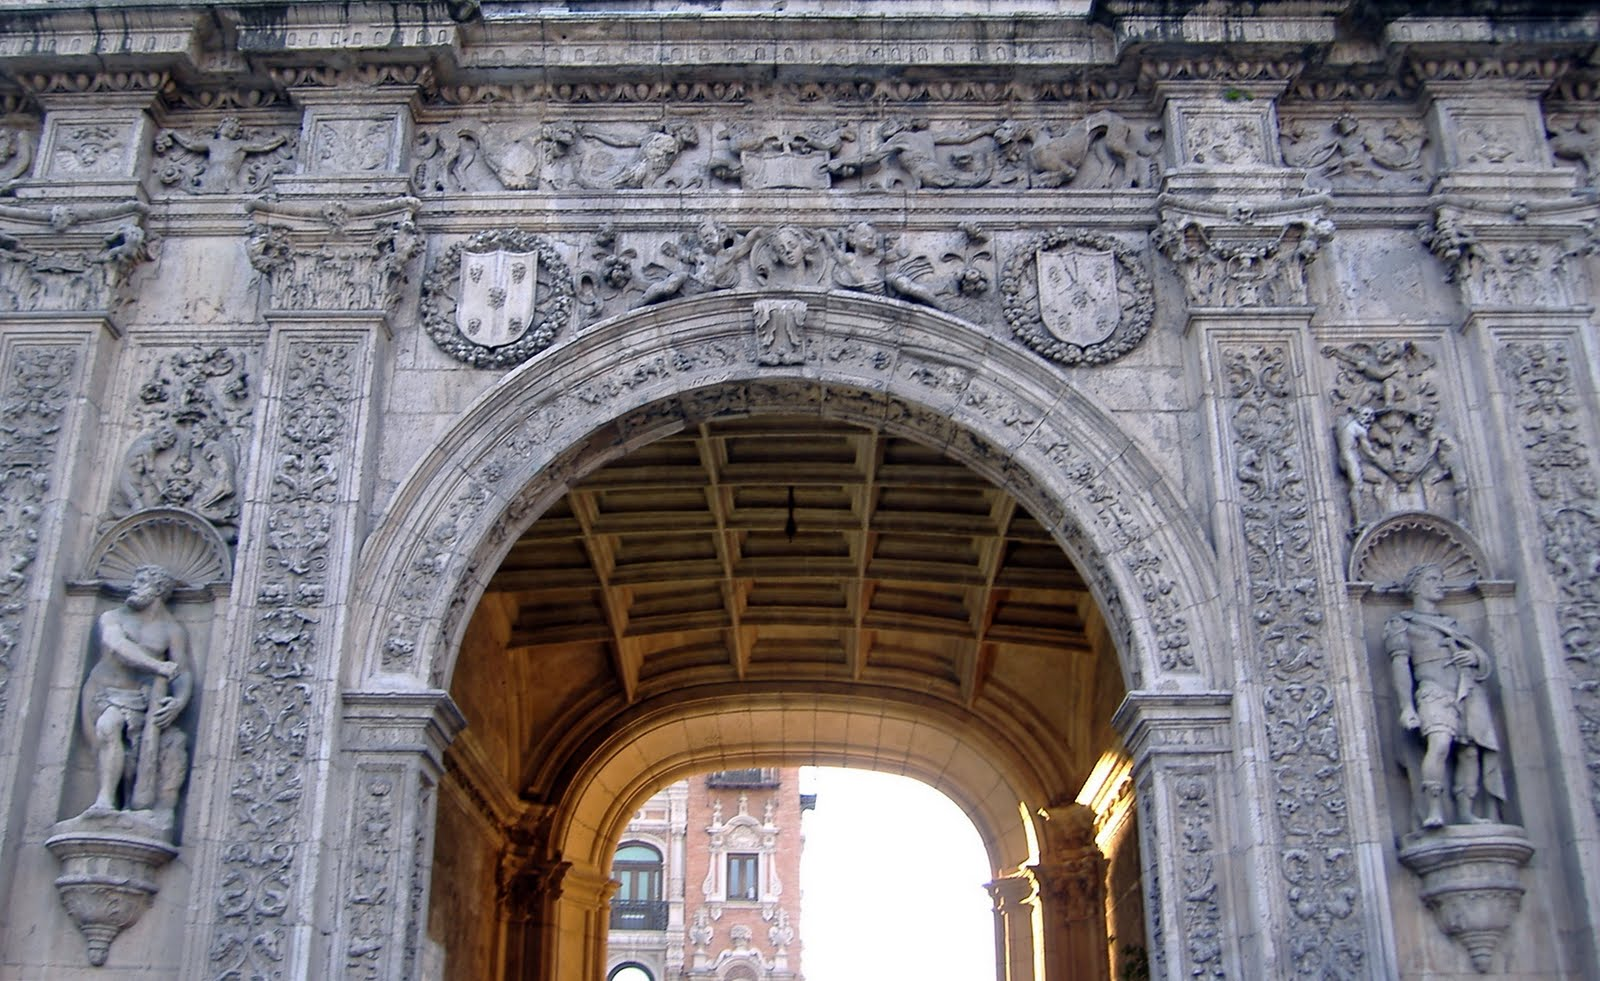arco-medio-punto: (329, 276, 1265, 780)
